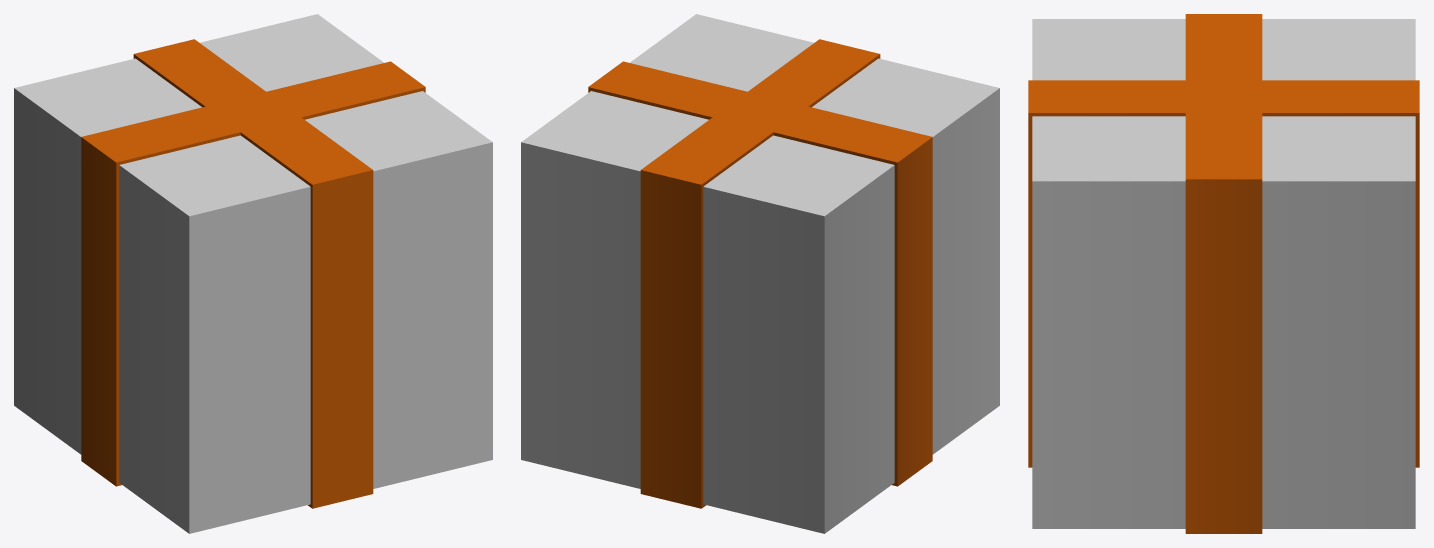
File: projectile-standard-high-xmas.glb
3 views of the same model, side by side, from view 1: azimuth 30°, elevation 25°; view 2: azimuth 150°, elevation 25°; view 3: azimuth 270°, elevation 25° (orthographic). The views are drawn at different scales.
Parts seen in each view (by area): view 1: mesh0; view 2: mesh0; view 3: mesh0.
Boxes of the visible parts, box(x1,y1,x2,y2) form: mesh0: box(14, 14, 492, 533); mesh0: box(521, 14, 999, 533); mesh0: box(1028, 14, 1419, 533).
Bounding box in the file's own units: 0.102 × 0.102 × 0.102.
